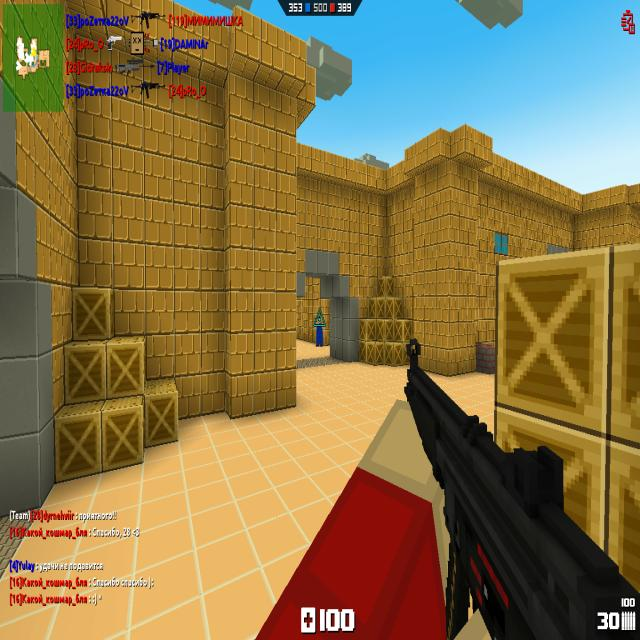enemy: (316, 317, 323, 347)
